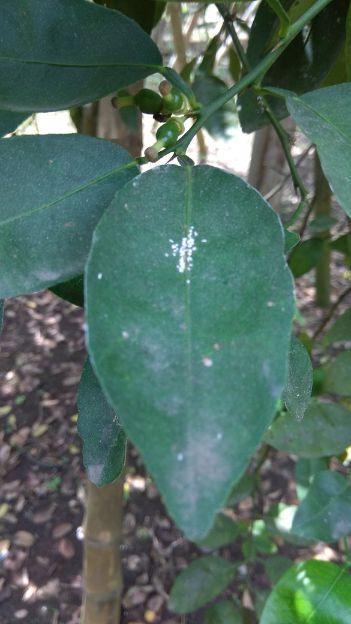Myzus persicae: (170, 226, 197, 272)
